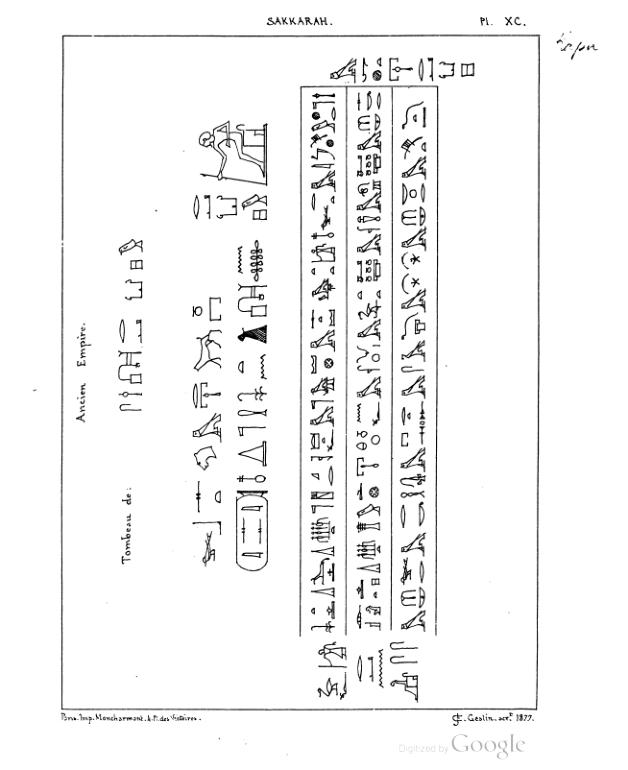circle: (231, 488, 273, 574)
